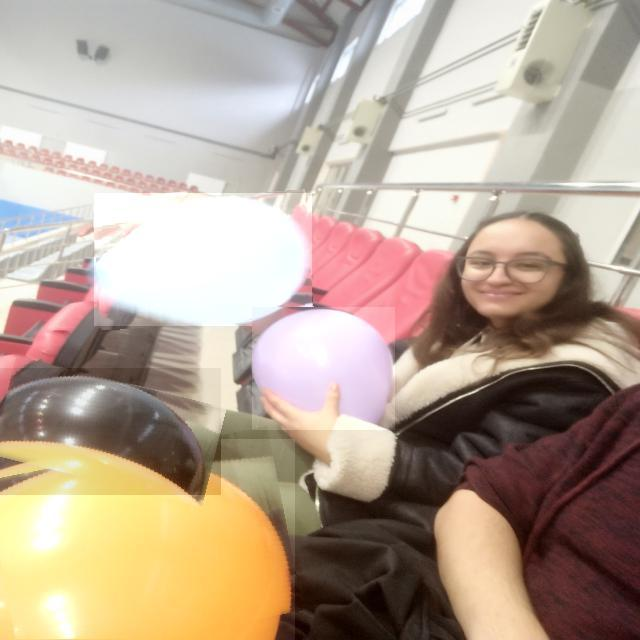balloon: (0, 439, 295, 640), (94, 193, 312, 326), (0, 368, 221, 495), (252, 307, 395, 430)
